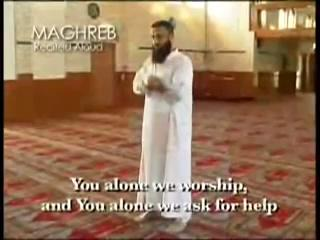qiyam: (132, 20, 193, 233)
